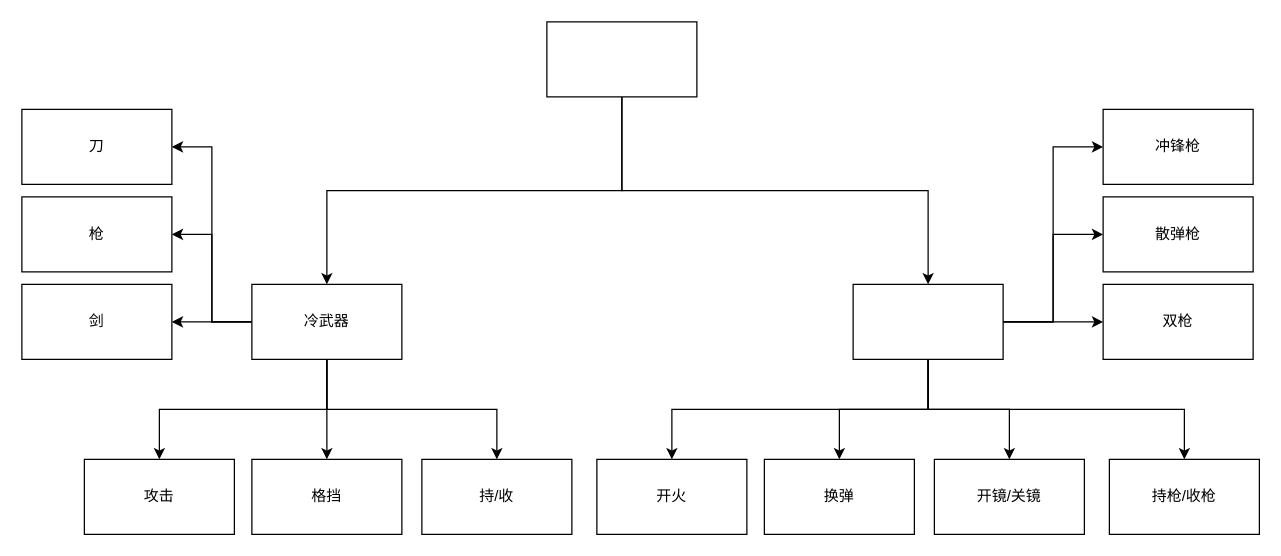
Some shapes in this 1281 by 556 pixel diagram are drawn without their labels. The box of each missing label's shape, as (x1, y1, x2, y2) in pixels:
热武器: (852, 283, 1003, 359)
角色: (546, 21, 697, 97)
